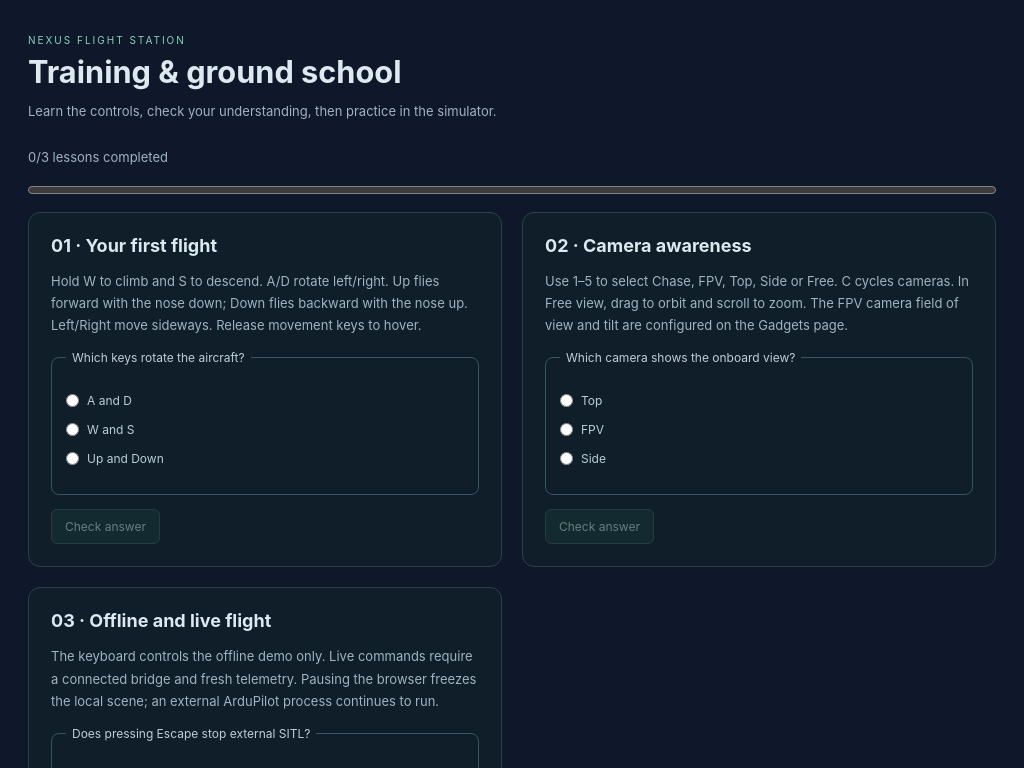
Test: connected page controls › checks lesson answers and does not reward an incorrect answer
This screenshot has width=1024, height=768.
Click the radio button labelled "W and S" at [72, 430], box [66, 424, 79, 436]
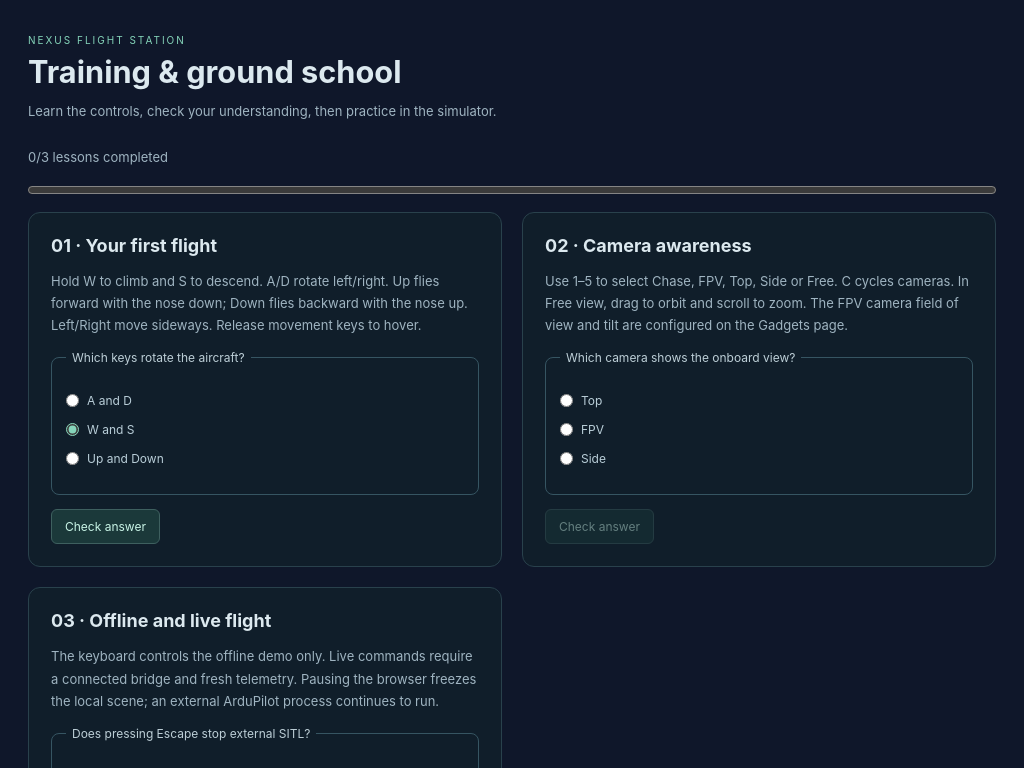
Click the button "Check answer" below "Up and Down" at [106, 527], box [51, 510, 160, 544]
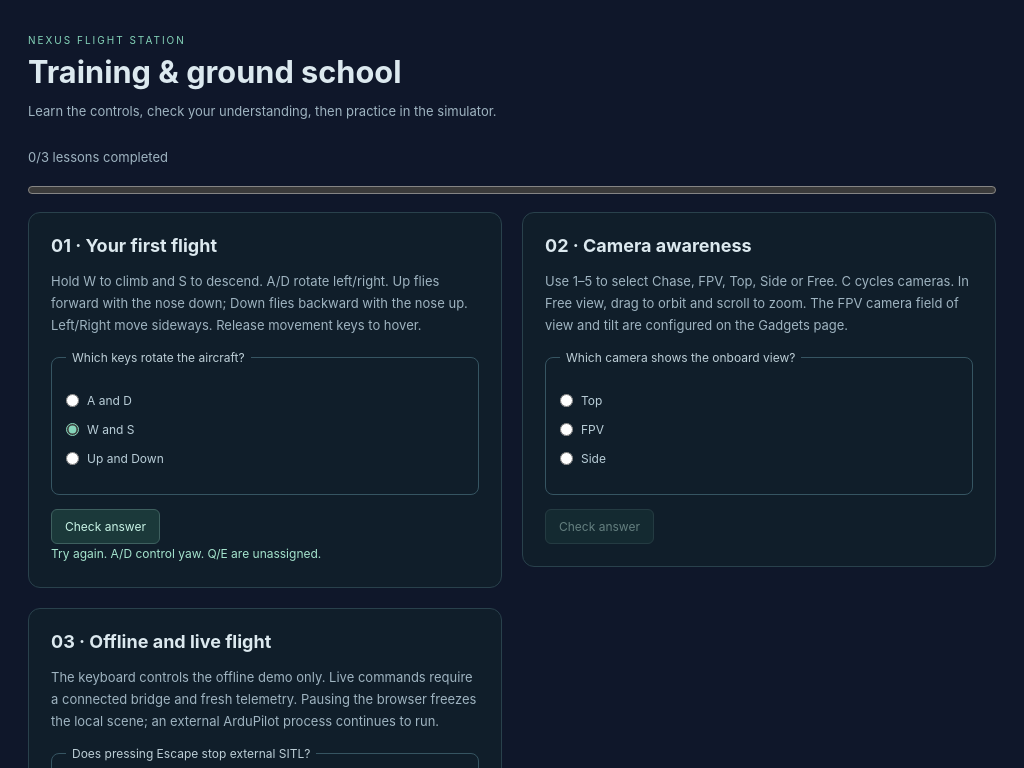
Expected: the message shows "Try again", [51, 546, 111, 562]
Click the radio button labelled "A and D" at [72, 401], box [66, 394, 79, 408]
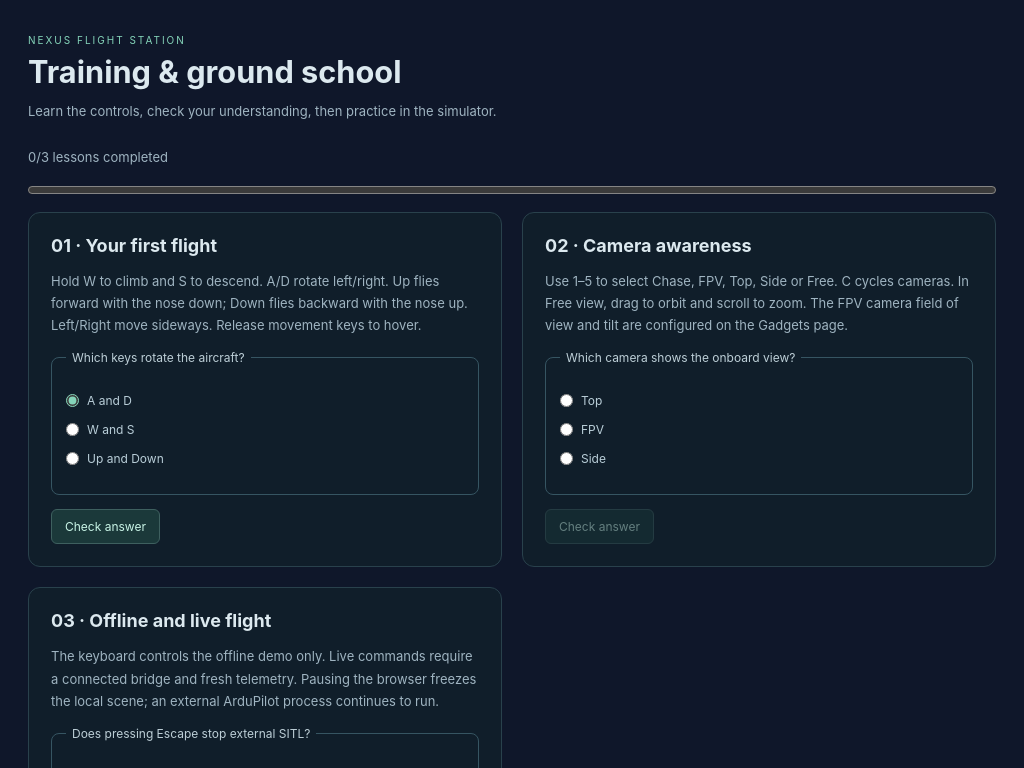
Click the button "Check answer" below "Up and Down" at [106, 527], box [51, 510, 160, 544]
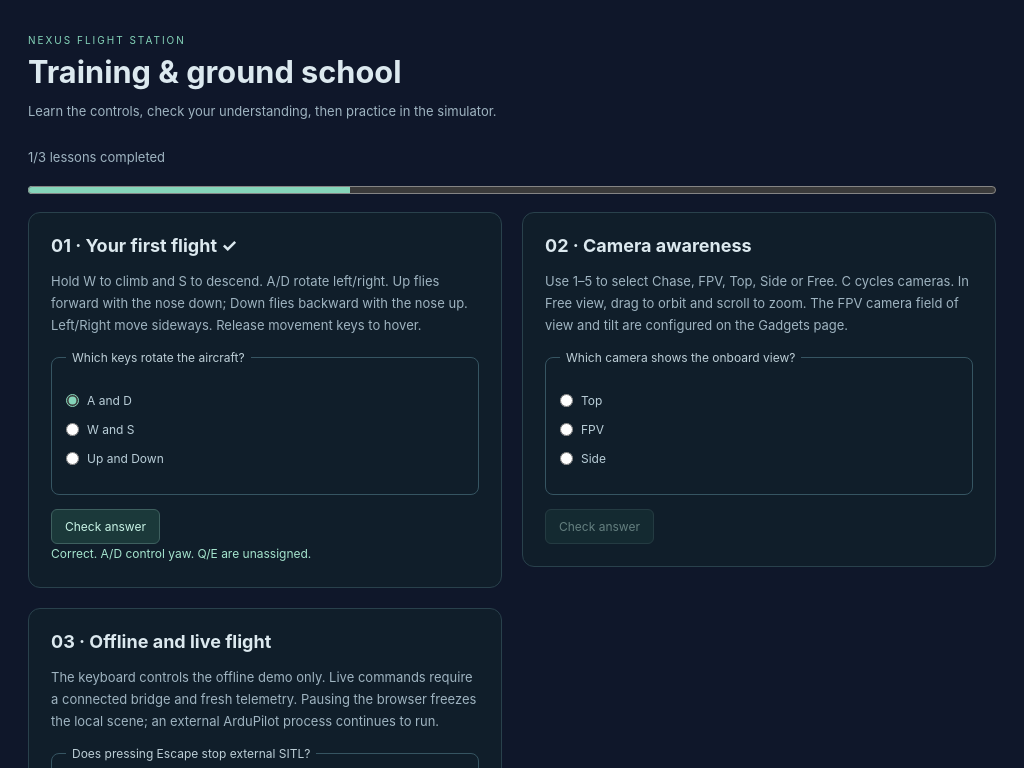
Expected: the message shows "Correct", [51, 546, 101, 562]
Expected: the text "1/3 lessons completed" is shown, [28, 149, 165, 165]
